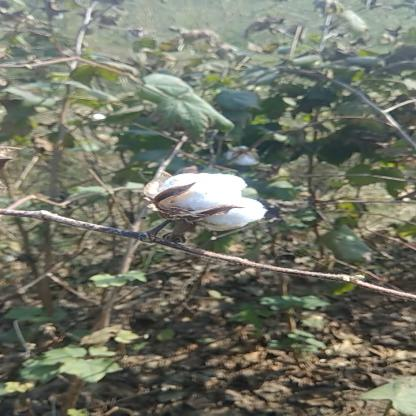cotton_ready: (122, 169, 282, 249)
